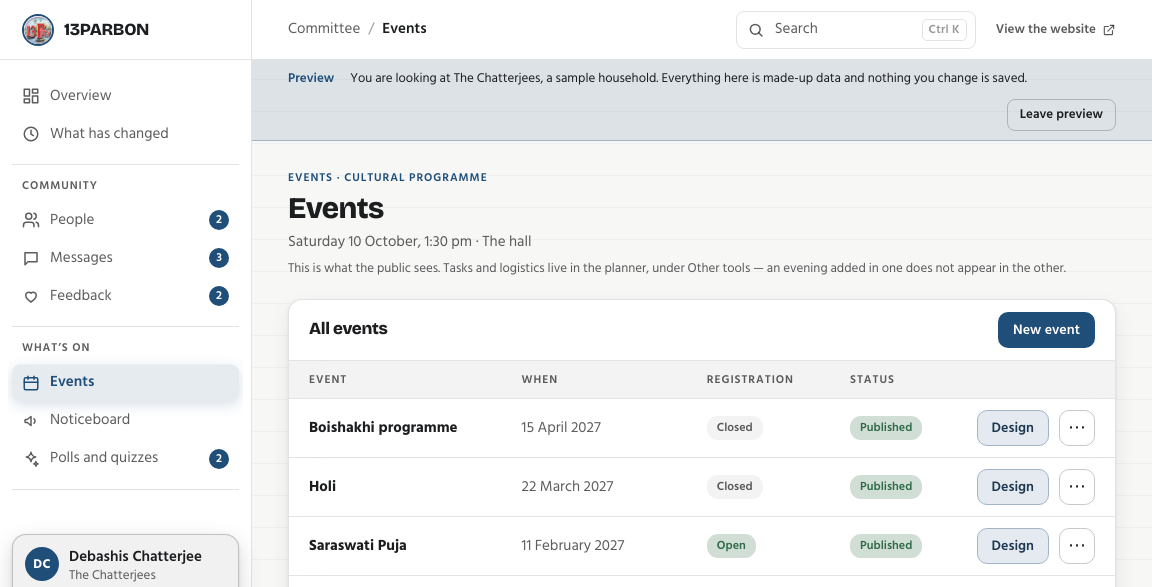
Test: an event the public can already see › says so before anything is changed
This screenshot has width=1152, height=587.
What coordinates should you click on to do the following:
click the button "Design " in the row of "15 April 2027"
I would click on:
 (1013, 428)
Its box is x1=977 y1=410 x2=1049 y2=446.
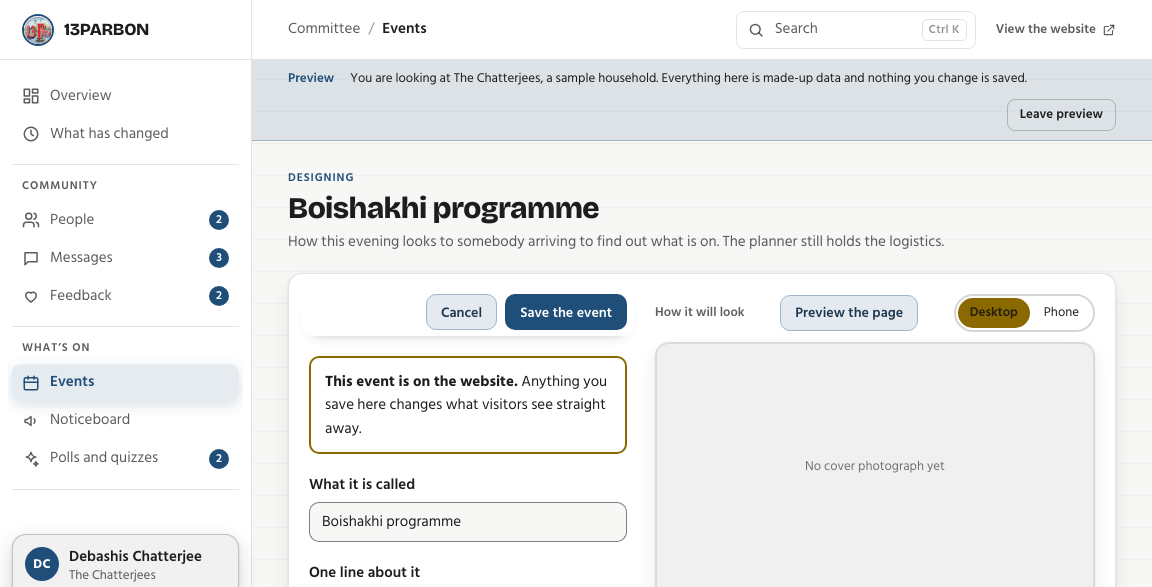
expect the text "This event is on the website." is shown: met, box x1=325 y1=369 x2=518 y2=394
